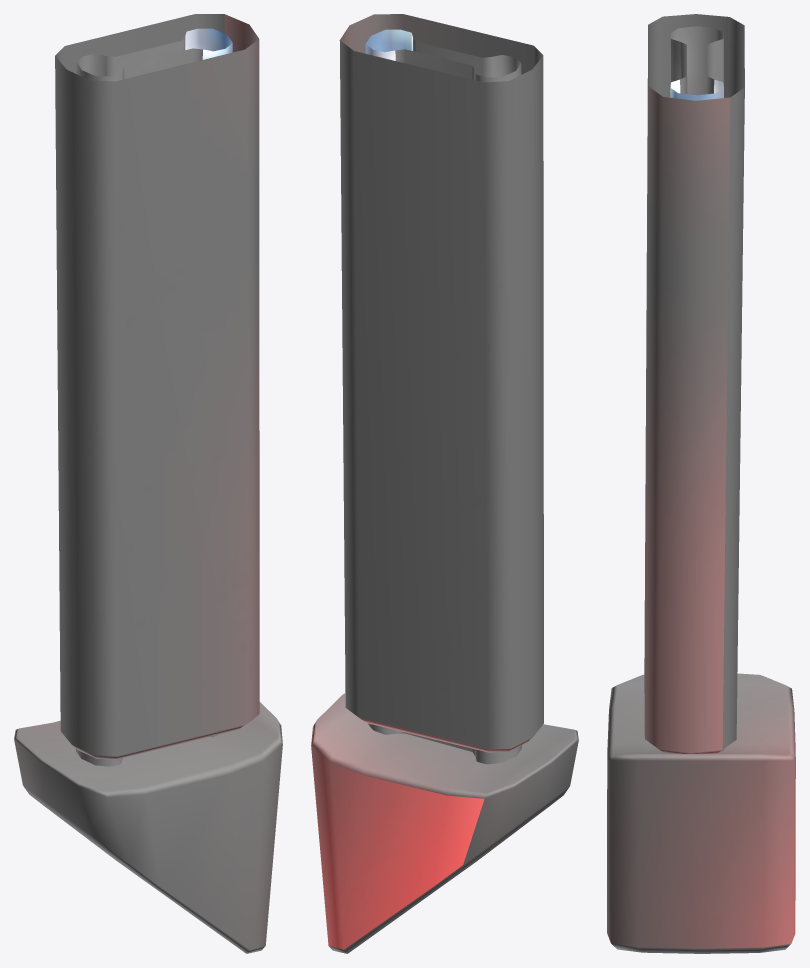
File: SM_CP_Motorcycle01_Stand02.fbx
3 views of the same model, side by side, from view 1: azimuth 30°, elevation 25°; view 2: azimuth 150°, elevation 25°; view 3: azimuth 270°, elevation 25° (orthographic). The views are drawn at different scales.
Parts seen in each view (by area): view 1: SM_CP_Motorcycle01_Stand02_LOD0; view 2: SM_CP_Motorcycle01_Stand02_LOD0; view 3: SM_CP_Motorcycle01_Stand02_LOD0.
Boxes of the visible parts, x1=… form: SM_CP_Motorcycle01_Stand02_LOD0: x1=14, y1=14, x2=282, y2=953; SM_CP_Motorcycle01_Stand02_LOD0: x1=311, y1=14, x2=578, y2=953; SM_CP_Motorcycle01_Stand02_LOD0: x1=607, y1=14, x2=795, y2=953.
Size of the model in its own units: 8.03 by 6.37 by 32.14.
